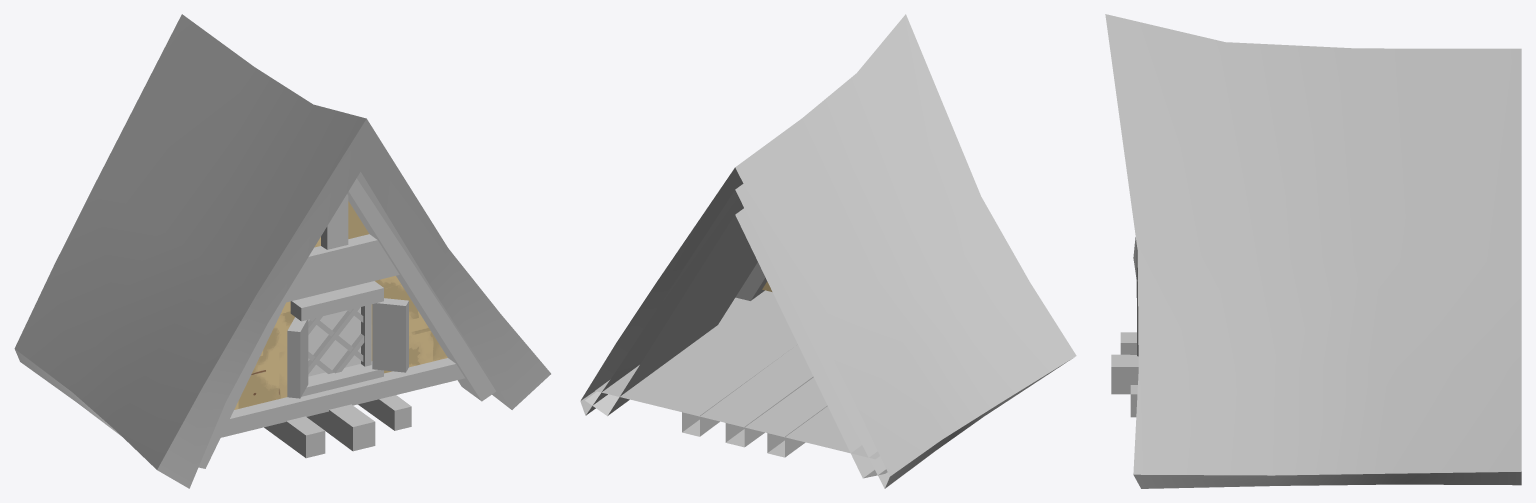
File: SM_BLD_window_v05_01.fbx
3 views of the same model, side by side, from view 1: azimuth 30°, elevation 25°; view 2: azimuth 150°, elevation 25°; view 3: azimuth 270°, elevation 25° (orthographic). The views are drawn at different scales.
Parts seen in each view (by area): view 1: SM_BLD_window_v05_01; view 2: SM_BLD_window_v05_01; view 3: SM_BLD_window_v05_01.
Part boxes in pixels (x1,y1,x2,y2): SM_BLD_window_v05_01: (14, 14, 550, 488); SM_BLD_window_v05_01: (580, 14, 1076, 488); SM_BLD_window_v05_01: (1105, 14, 1521, 488).
Bounding box in the file's own units: 455 × 378 × 369.
